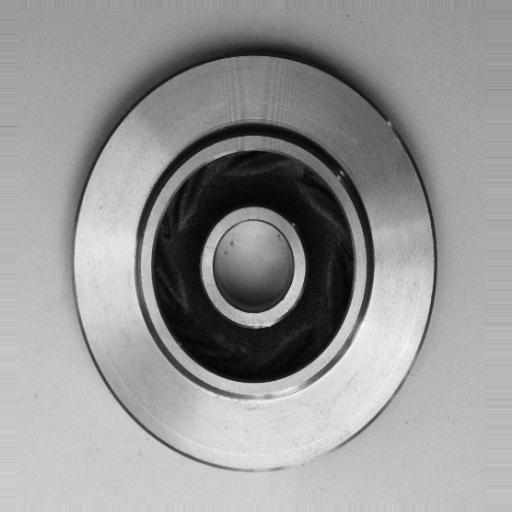scratch: (249, 438, 341, 487), (239, 377, 313, 411)
unpolished_casting: (67, 53, 438, 473)
